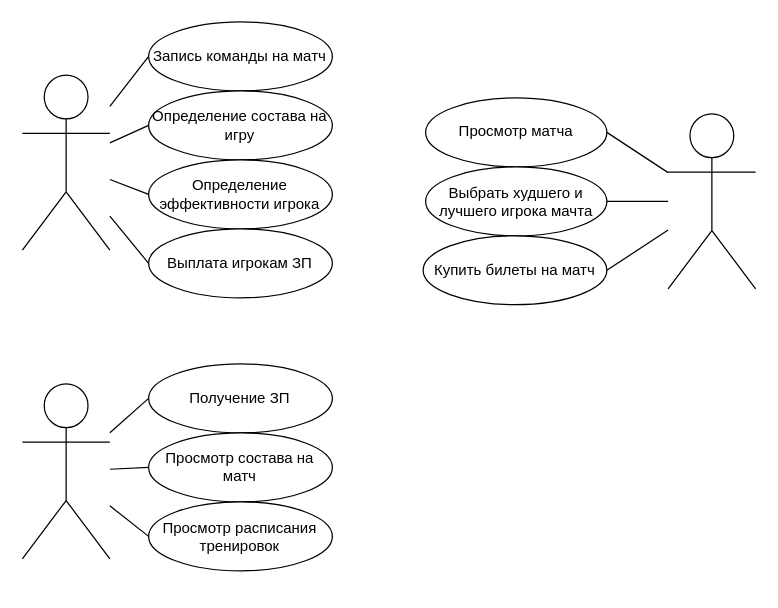
This 778x608 diagram has some shape labels left out. The centre of each missing label's shape, as x and y in pixels:
"Болельщик" goes at pixel 711 201.
"Тренер" goes at pixel 65 162.
"Футболист" goes at pixel 65 471.
